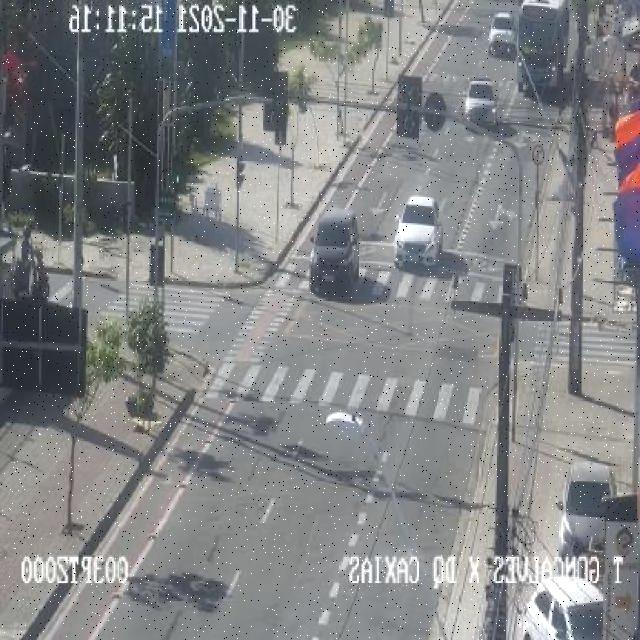Bus: (514, 0, 570, 94)
Car: (555, 461, 613, 563), (516, 574, 603, 640), (308, 209, 359, 289), (396, 194, 441, 264), (486, 13, 517, 57), (466, 79, 494, 125)
Cycle: (15, 252, 50, 300)
